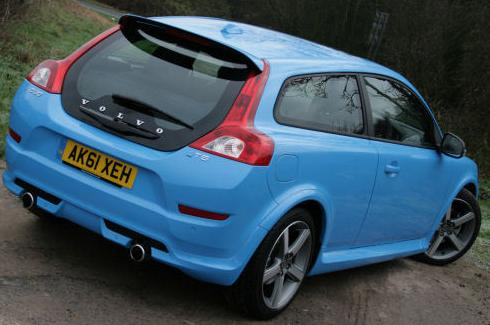back_view: (13, 57, 275, 288)
backlight: (186, 56, 284, 185)
side_glass: (274, 66, 462, 160)
